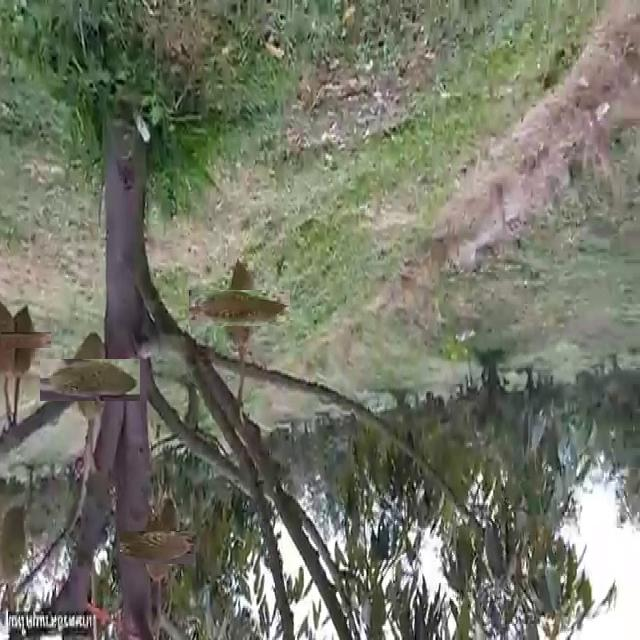durian: (54, 344, 126, 415), (205, 274, 275, 342), (130, 521, 184, 575), (1, 504, 31, 594), (8, 304, 40, 385), (0, 316, 35, 365)
